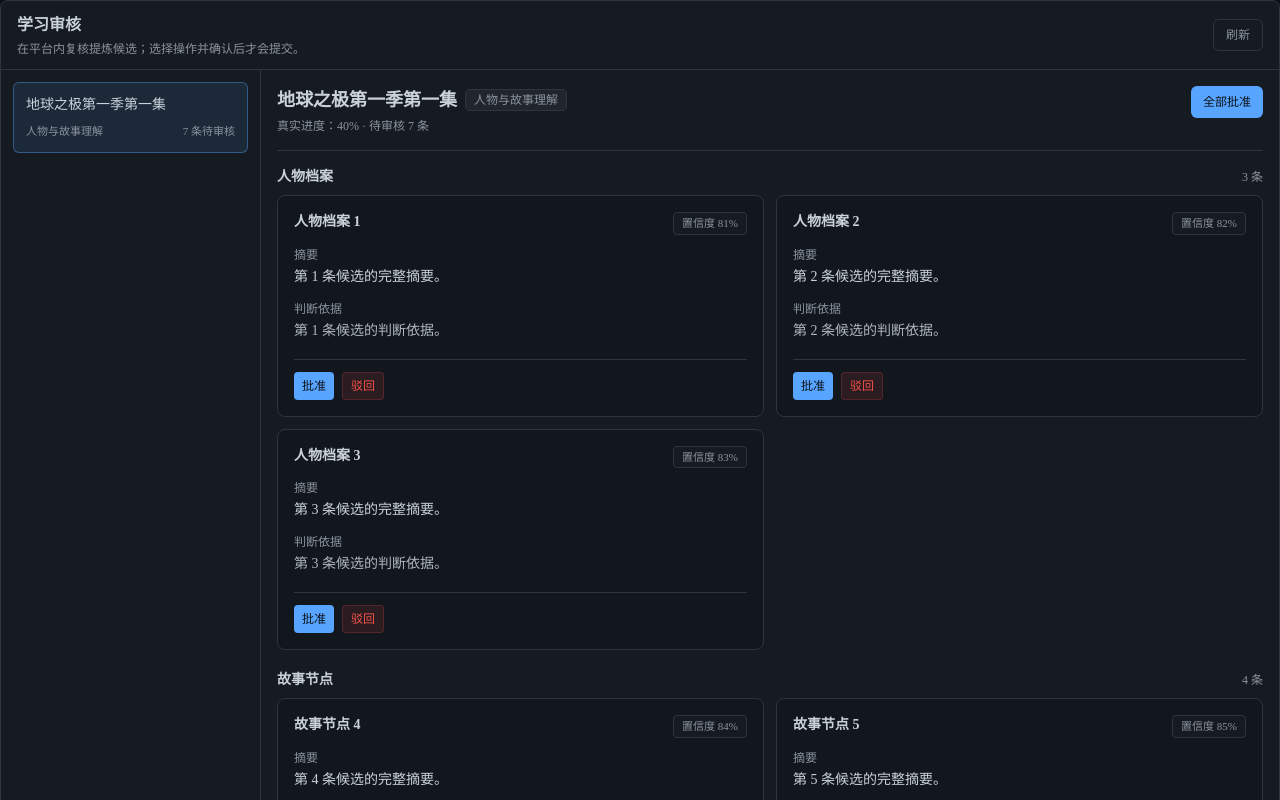
Test: DirectorLearningReviewPanel › replays an unknown result with the same batch and keeps other writes locked
The width and height of the screenshot is (1280, 800).
What coordinates should you click on to do the following:
click the button with aria-label "批准：人物档案 1"
I would click on:
 (314, 386)
Its box is [294, 372, 334, 400].
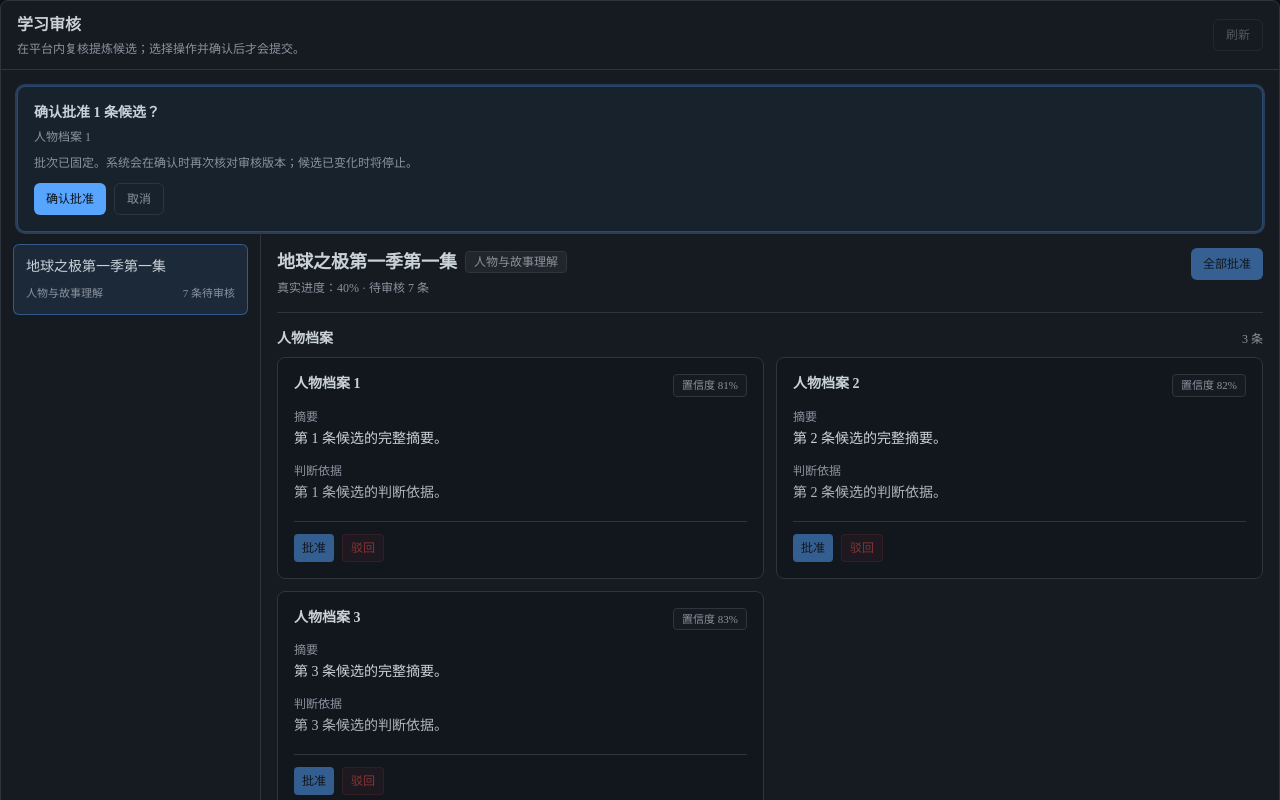
What coordinates should you click on to do the following:
click the button "确认批准"
I would click on:
 (70, 199)
Its box is [34, 183, 106, 215].
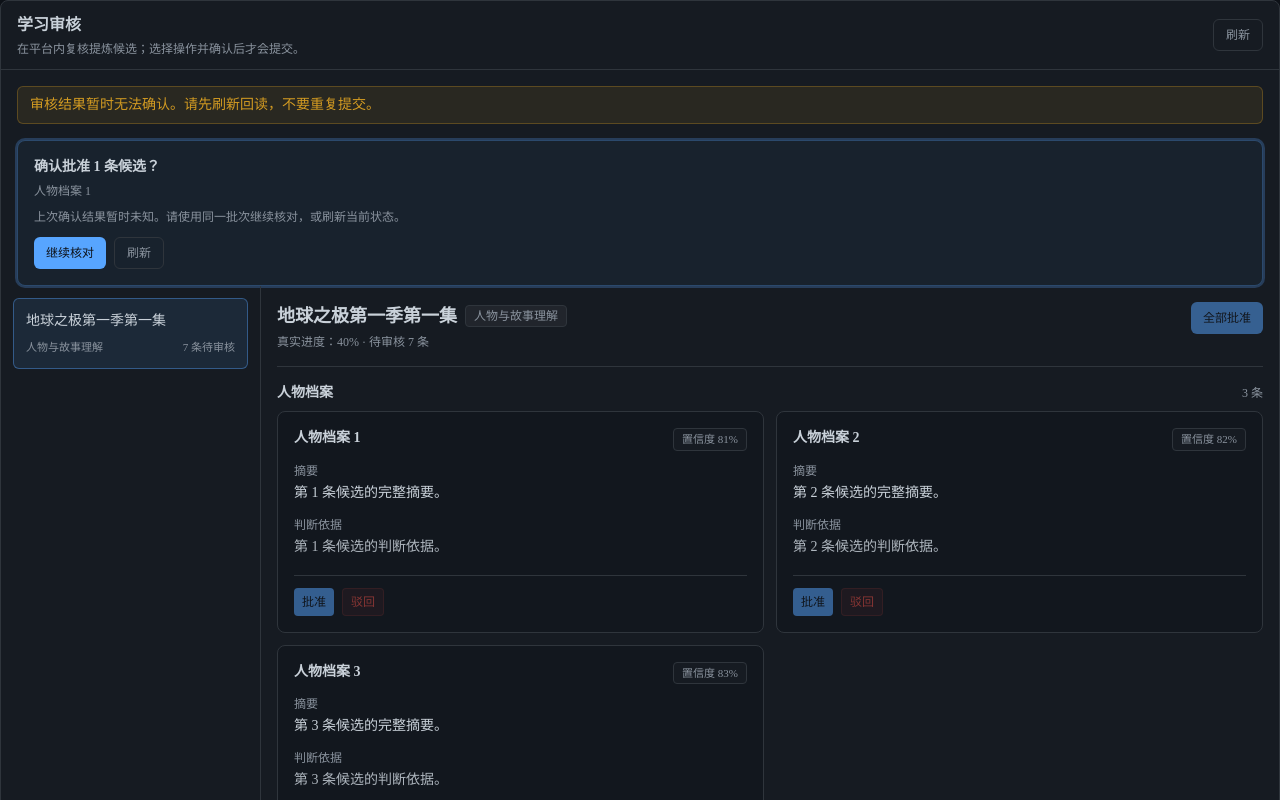
Now the button "全部批准" is disabled, box [1191, 302, 1263, 334]
Now the text "上次确认结果暂时未知。请使用同一批次继续核对，或刷新当前状态。" is shown, box [34, 210, 406, 224]
What coordinates should you click on to do the following:
click the button "继续核对"
I would click on:
 (70, 253)
Its box is [34, 237, 106, 269].
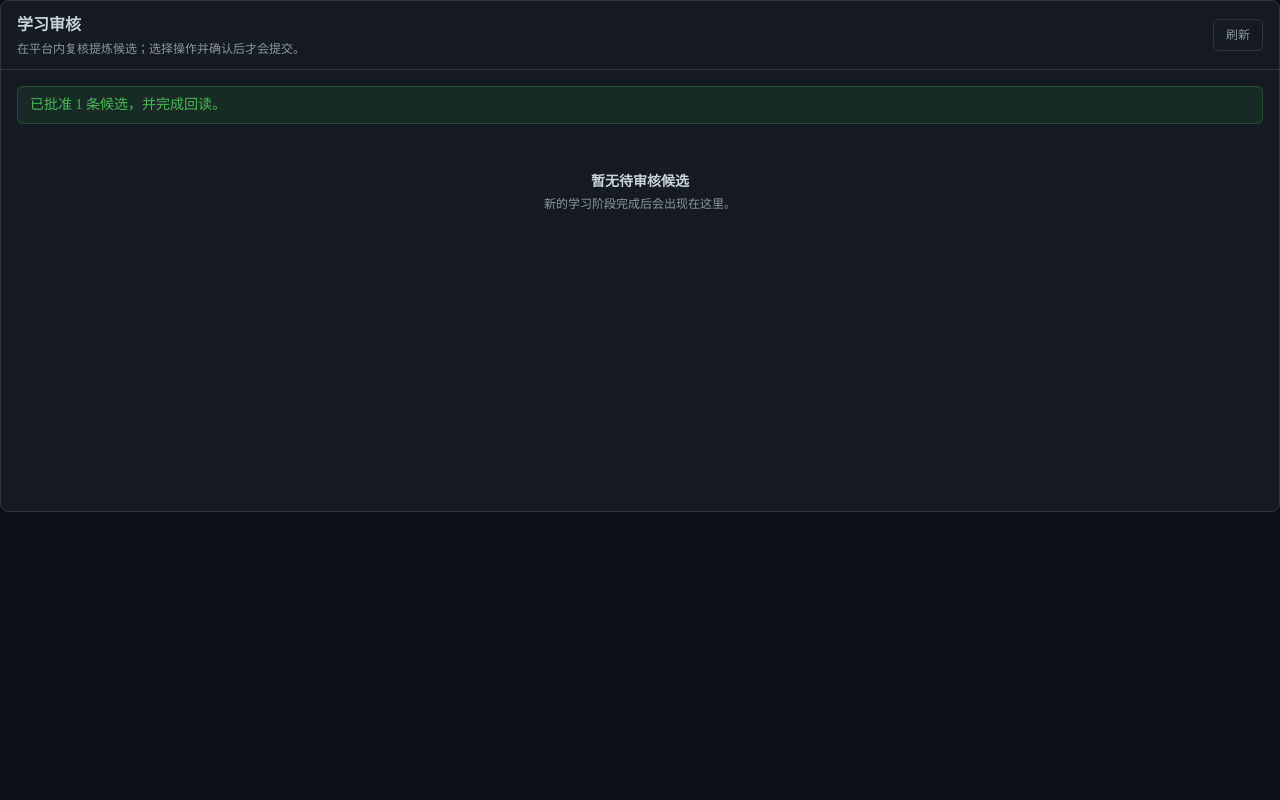
Now the heading "暂无待审核候选" is shown, box [591, 174, 689, 189]
